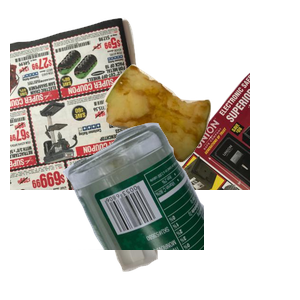glass: (60, 120, 300, 300)
paper: (10, 15, 250, 195)
plastic: (85, 163, 235, 300)
trash: (101, 62, 300, 217)
